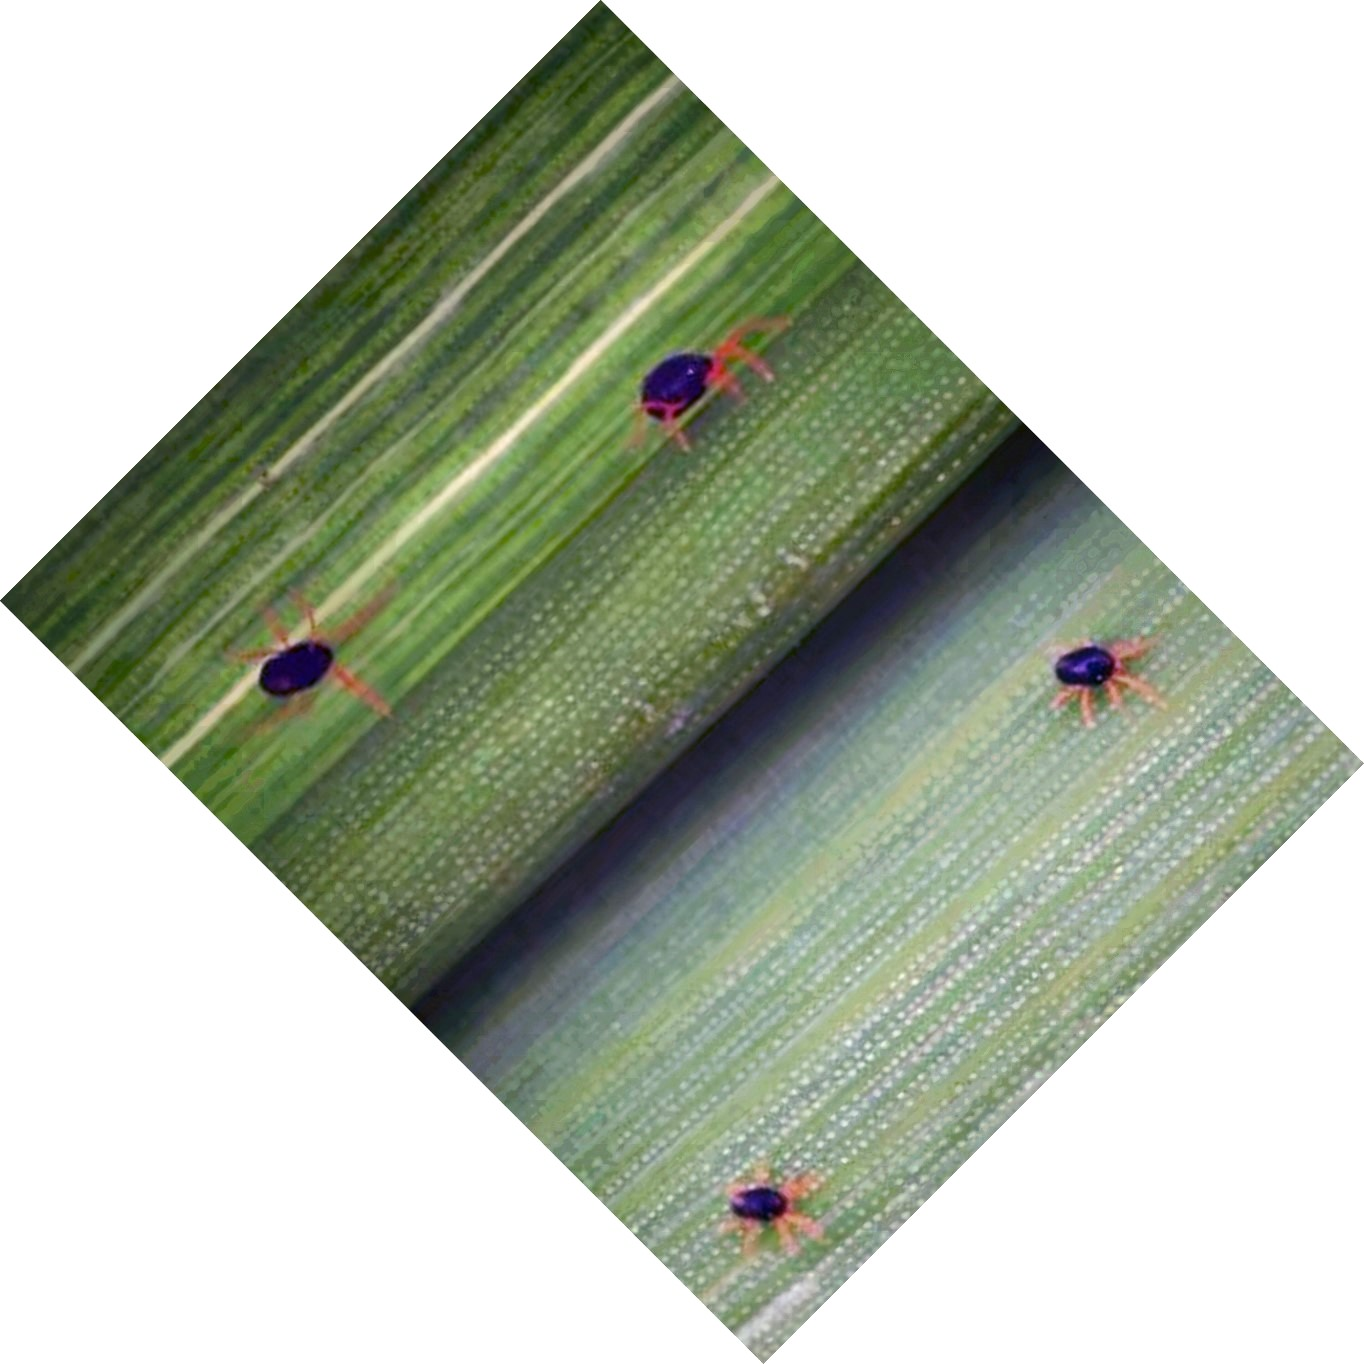Wheat Red Spider: (199, 571, 453, 752), (1008, 602, 1180, 732)
